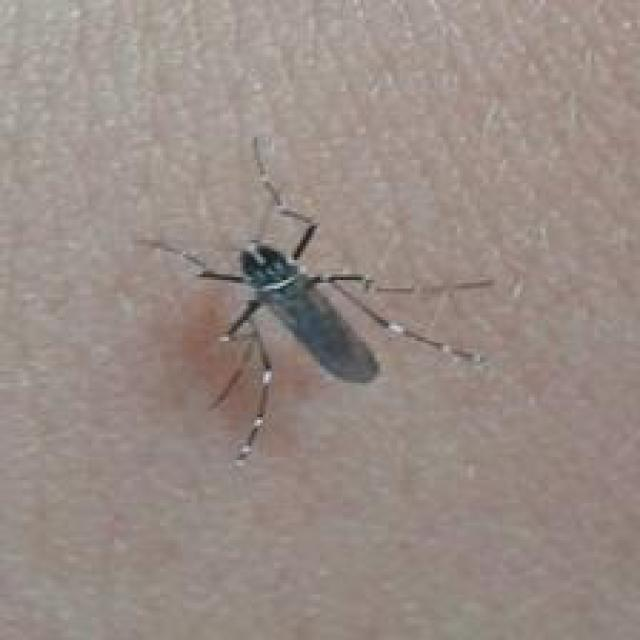Aedes albopictus: (134, 134, 494, 463)
